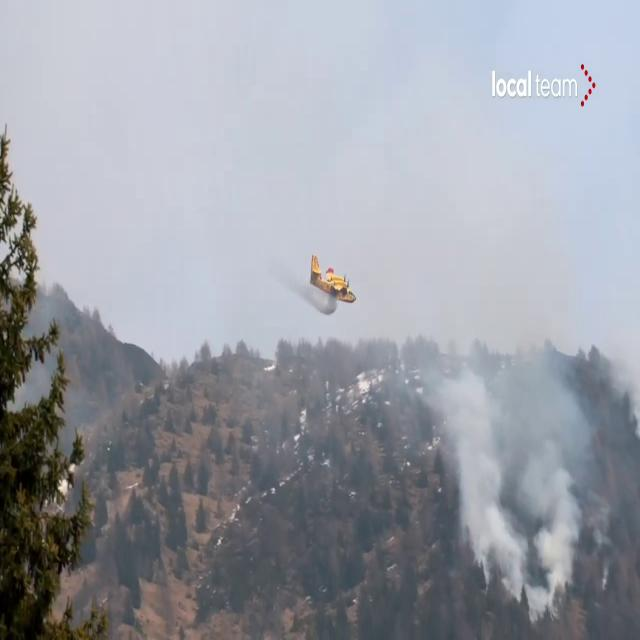smoke: (419, 258, 593, 624)
